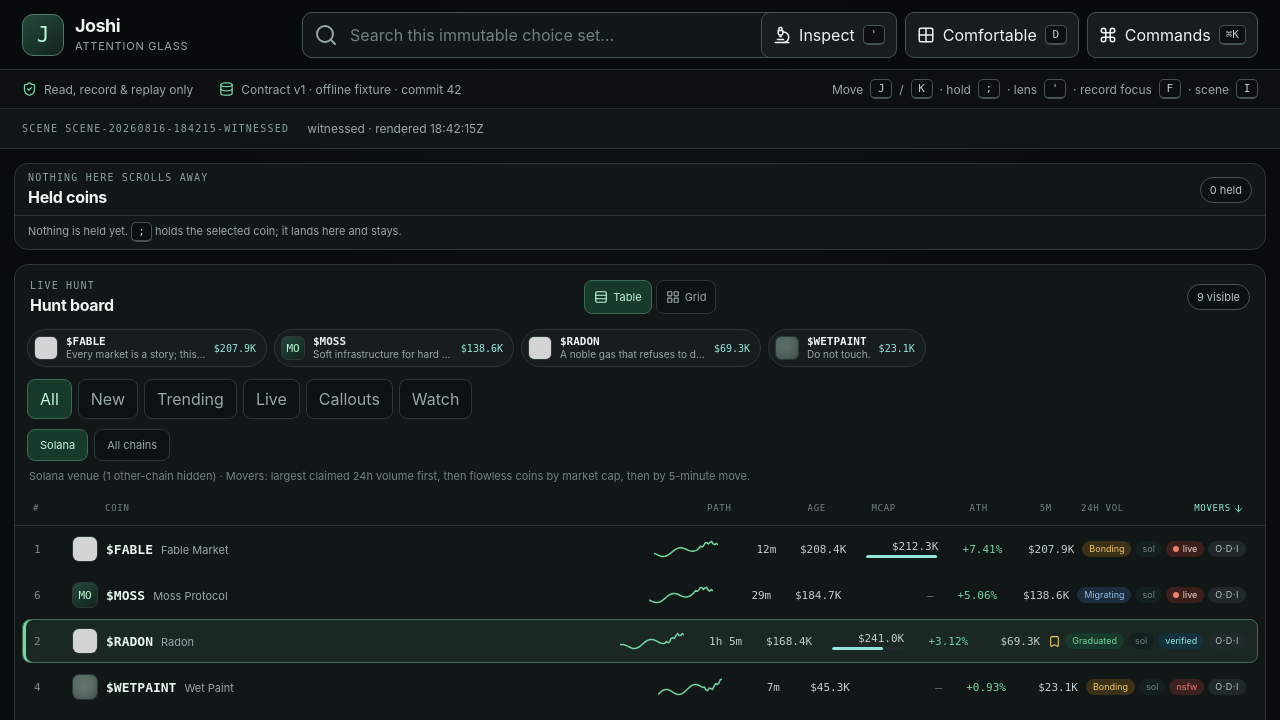
Test case: hunt surface › gives the tabs real data semantics and states each tab's basis
The image size is (1280, 720).
Check: the option that starts with "$FABLE" is shown, box [34,536,1246,562]
Check: the text "Movers: largest claimed 24h volume first" is shown, box [29,469,750,483]
Step 1. Click the radio button labelled "Trending" → (190,399), box [144,379,237,419]
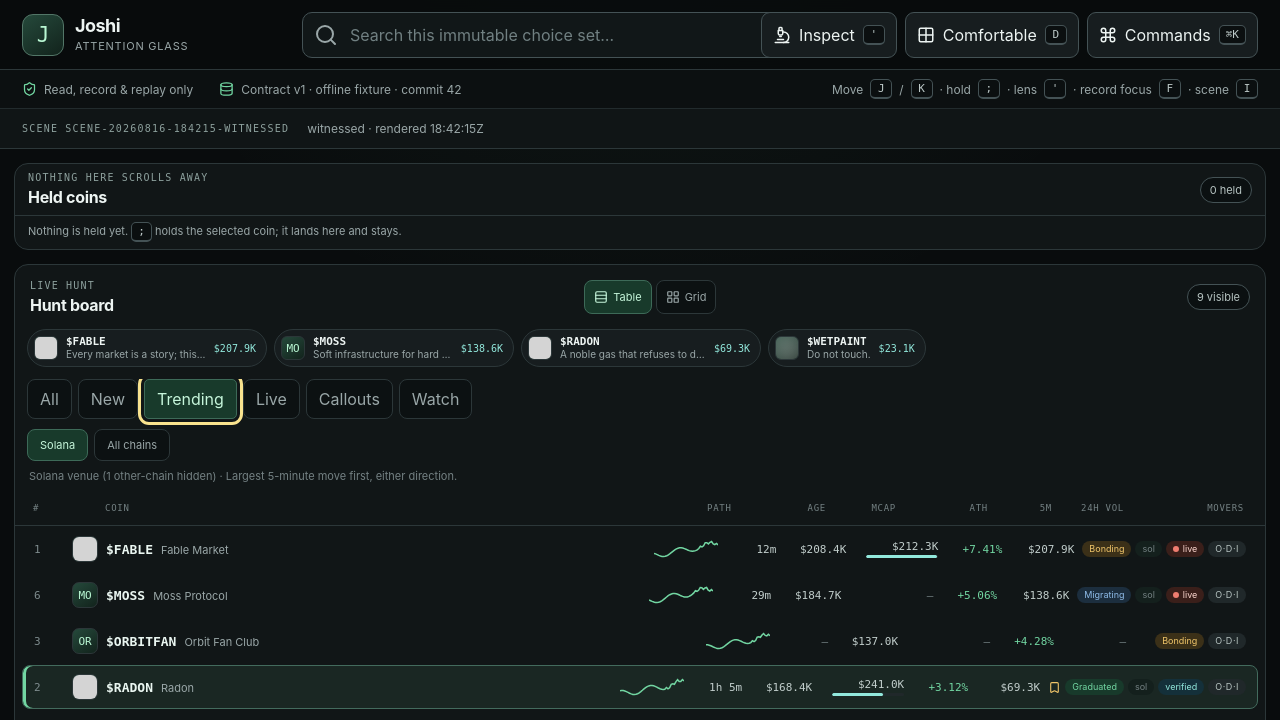
Check: the text "largest 5-minute move first, either direction." is shown, box [29,469,457,483]
Step 2. Click the radio button labelled "New" → (108,399), box [78,379,138,419]
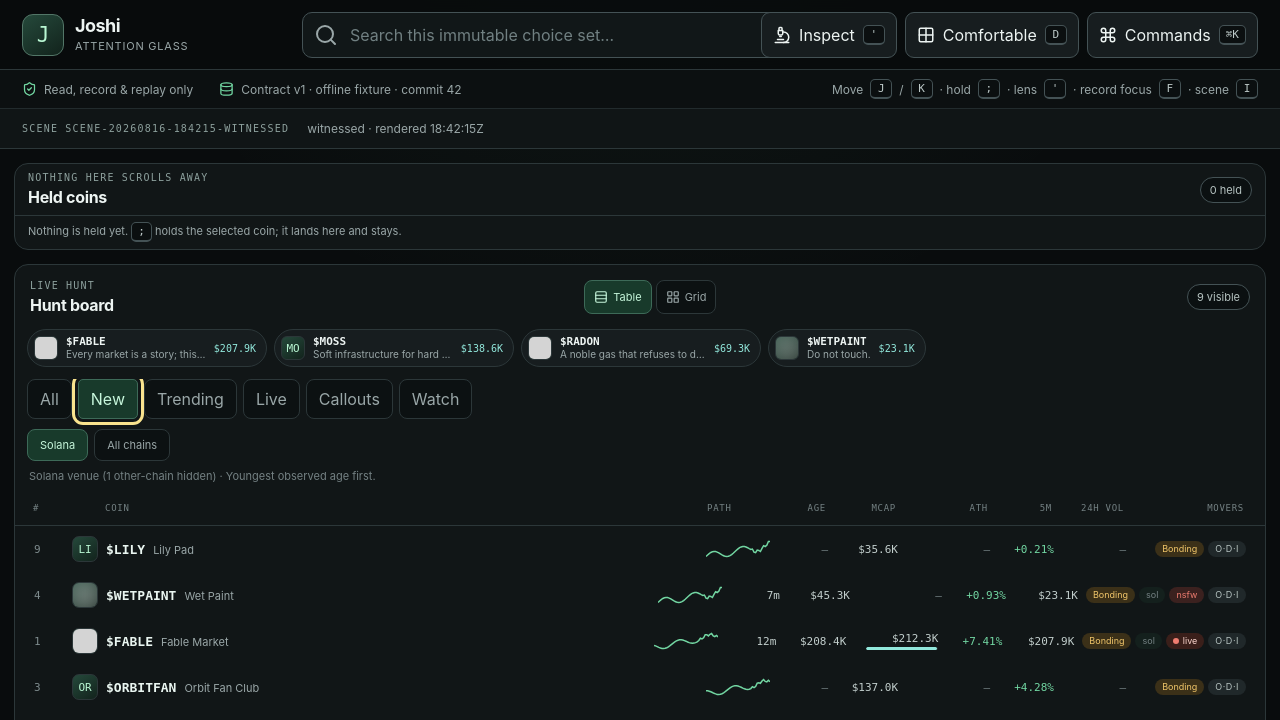
Check: the text "Youngest observed age first." is shown, box [29,469,376,483]
Note: A category tab: only the coin the scene marks live remains, and it says so.
Step 3. Click the radio button labelled "Live" → (271,399), box [243,379,300,419]
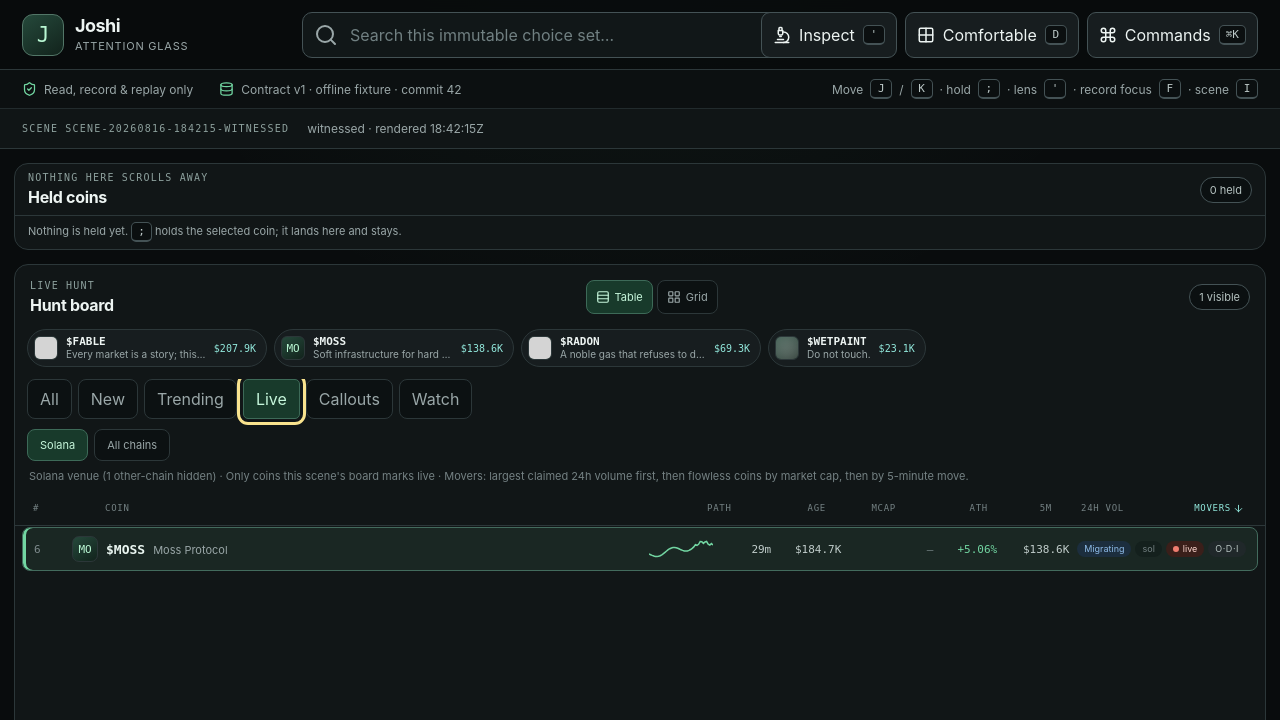
Check: the text "marks live · movers: largest claimed 24h volume first" is shown, box [29,469,969,483]
